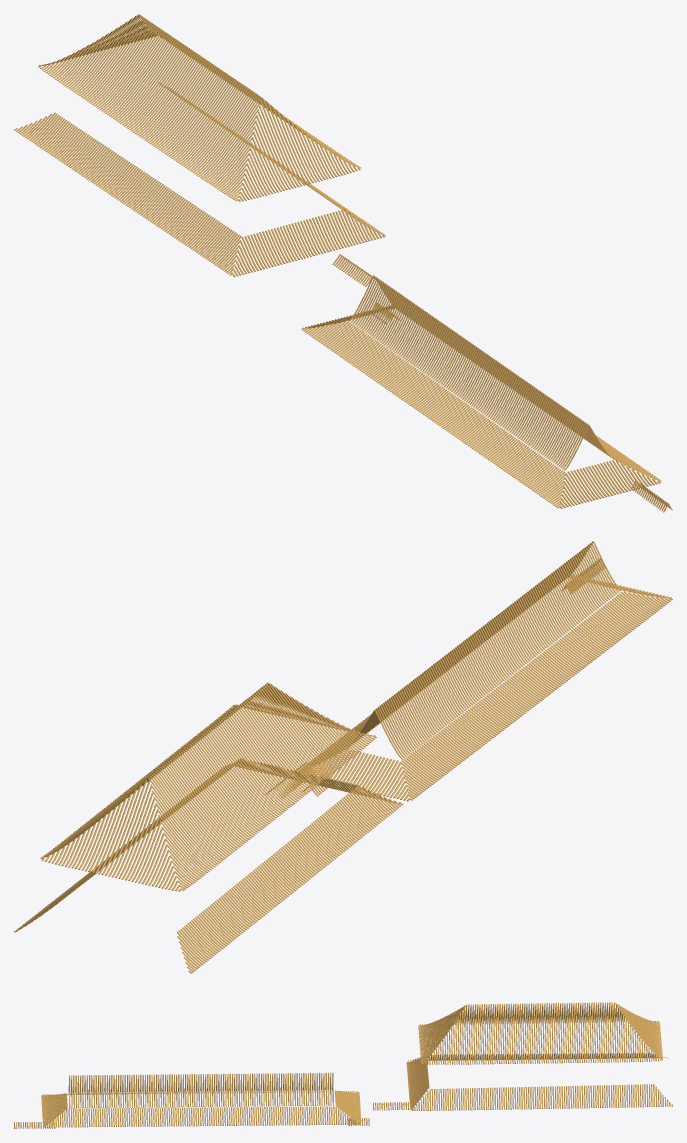
Rendered from roof-tiles-4-3.glb.
The picture shows the model from 3 angles, top to bottom: view 1: azimuth 30°, elevation 25°; view 2: azimuth 150°, elevation 25°; view 3: azimuth 270°, elevation 25°; orthographic projection. The views are drawn at different scales.
Parts seen in each view (by area): view 1: roof-tiles-4-3_micro_Roof_Glazed_Ochre; view 2: roof-tiles-4-3_micro_Roof_Glazed_Ochre; view 3: roof-tiles-4-3_micro_Roof_Glazed_Ochre.
Part boxes in pixels (<box>): roof-tiles-4-3_micro_Roof_Glazed_Ochre: <box>14,14,672,512</box>; roof-tiles-4-3_micro_Roof_Glazed_Ochre: <box>14,541,672,973</box>; roof-tiles-4-3_micro_Roof_Glazed_Ochre: <box>14,1002,672,1128</box>.
Size of the model in its own units: 0.2245 by 0.2105 by 1.18.
